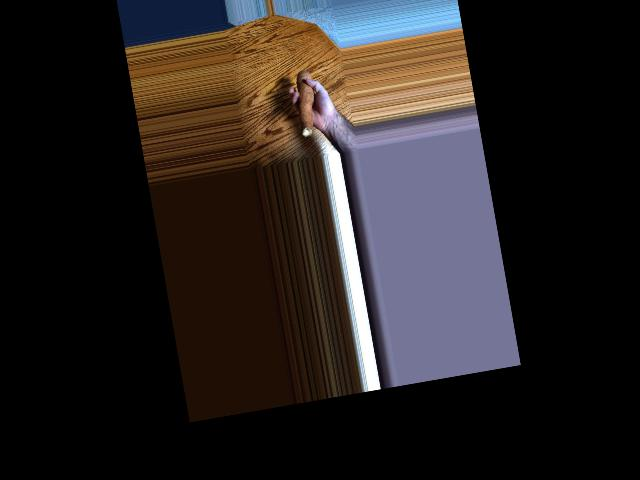sweet_potato: (291, 73, 321, 132)
